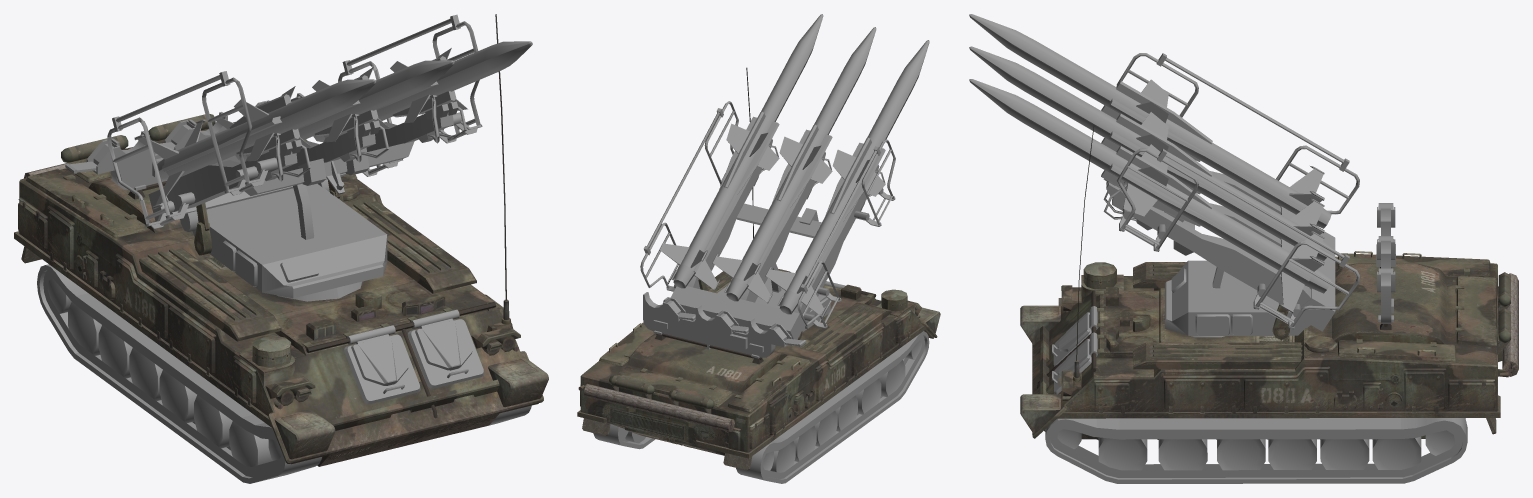
The model's file is sam_2k12_kub.obj.
3 views of the same model, side by side, from view 1: azimuth 30°, elevation 25°; view 2: azimuth 150°, elevation 25°; view 3: azimuth 270°, elevation 25° (orthographic). The views are drawn at different scales.
Parts seen in each view (by area): view 1: AAtank_Material__26_0, AAtank01_Material__25_0, AAtank03_Material__32_0, AAtank07_Material__30_0, AAtank02_Material__29_0, AAtank06_Material__33_0, AAtank05_Material__34_0, AAtank04_Material__31_0, AAtank09_Material__955_0, AAtank08_Material__36_0; view 2: AAtank01_Material__25_0, AAtank_Material__26_0, AAtank07_Material__30_0, AAtank04_Material__31_0, AAtank02_Material__29_0, AAtank03_Material__32_0, AAtank08_Material__36_0; view 3: AAtank_Material__26_0, AAtank01_Material__25_0, AAtank07_Material__30_0, AAtank02_Material__29_0, AAtank03_Material__32_0, AAtank04_Material__31_0, AAtank06_Material__33_0, AAtank05_Material__34_0, AAtank08_Material__36_0.
Part boxes in pixels (x1=…): AAtank_Material__26_0: x1=14, y1=14, x2=548, y2=466; AAtank01_Material__25_0: x1=107, y1=14, x2=532, y2=239; AAtank03_Material__32_0: x1=192, y1=183, x2=387, y2=301; AAtank07_Material__30_0: x1=37, y1=264, x2=531, y2=483; AAtank02_Material__29_0: x1=68, y1=301, x2=272, y2=466; AAtank06_Material__33_0: x1=344, y1=325, x2=420, y2=404; AAtank05_Material__34_0: x1=408, y1=309, x2=484, y2=388; AAtank04_Material__31_0: x1=65, y1=93, x2=304, y2=190; AAtank09_Material__955_0: x1=194, y1=179, x2=343, y2=255; AAtank08_Material__36_0: x1=47, y1=278, x2=281, y2=460; AAtank01_Material__25_0: x1=640, y1=14, x2=929, y2=339; AAtank_Material__26_0: x1=577, y1=67, x2=940, y2=470; AAtank07_Material__30_0: x1=593, y1=331, x2=929, y2=483; AAtank04_Material__31_0: x1=643, y1=292, x2=806, y2=358; AAtank02_Material__29_0: x1=625, y1=360, x2=905, y2=472; AAtank03_Material__32_0: x1=717, y1=278, x2=830, y2=332; AAtank08_Material__36_0: x1=619, y1=340, x2=921, y2=470; AAtank_Material__26_0: x1=1020, y1=124, x2=1518, y2=439; AAtank01_Material__25_0: x1=969, y1=14, x2=1359, y2=331; AAtank07_Material__30_0: x1=1045, y1=418, x2=1467, y2=483; AAtank02_Material__29_0: x1=1098, y1=436, x2=1421, y2=470; AAtank03_Material__32_0: x1=1164, y1=260, x2=1305, y2=337; AAtank04_Material__31_0: x1=1376, y1=203, x2=1395, y2=323; AAtank06_Material__33_0: x1=1052, y1=306, x2=1097, y2=366; AAtank05_Material__34_0: x1=1052, y1=332, x2=1097, y2=394; AAtank08_Material__36_0: x1=1057, y1=429, x2=1455, y2=455.
Bounding box in the file's own units: 1496 × 2428 × 3134.
Materials: 10 (2 with a texture image).
